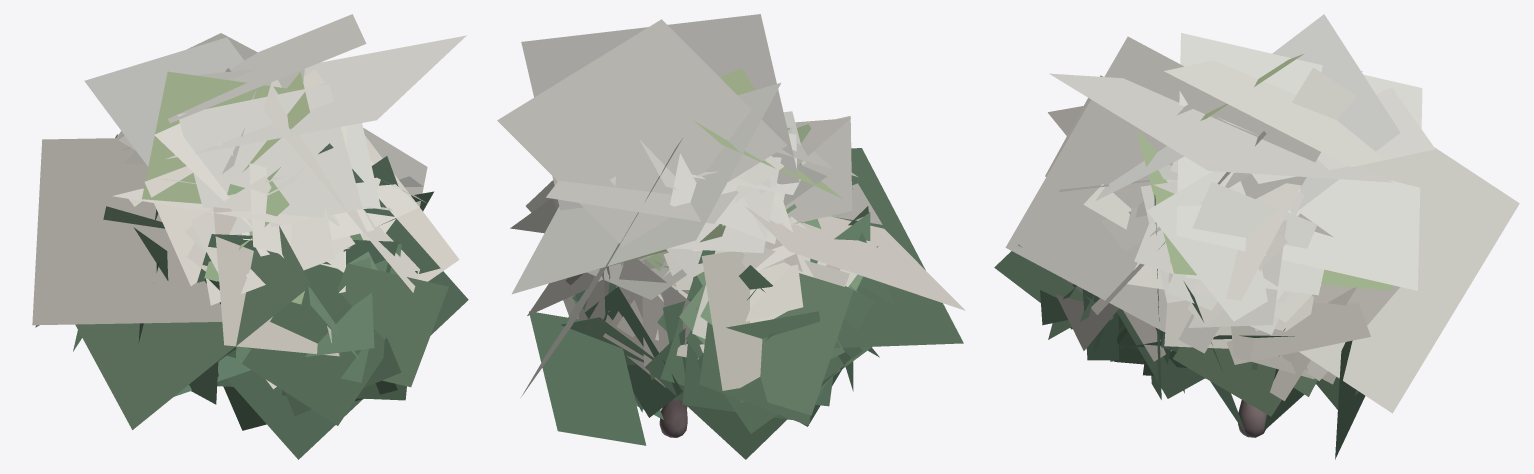
Rendered from hawthorn_v4.glb.
3 renders of one model, left to right at view 1: azimuth 30°, elevation 25°; view 2: azimuth 150°, elevation 25°; view 3: azimuth 270°, elevation 25°, orthographic. The views are drawn at different scales.
Visible parts, largest first — view 1: far, near; view 2: far, near; view 3: far, near.
Part boxes in pixels (x1=…): far: x1=32, y1=14, x2=468, y2=459; near: x1=35, y1=68, x2=448, y2=425; far: x1=497, y1=14, x2=965, y2=407; near: x1=510, y1=68, x2=894, y2=459; far: x1=1005, y1=14, x2=1519, y2=436; near: x1=994, y1=53, x2=1399, y2=459.
Bounding box in the file's own units: 9.64 × 7.91 × 9.58.
